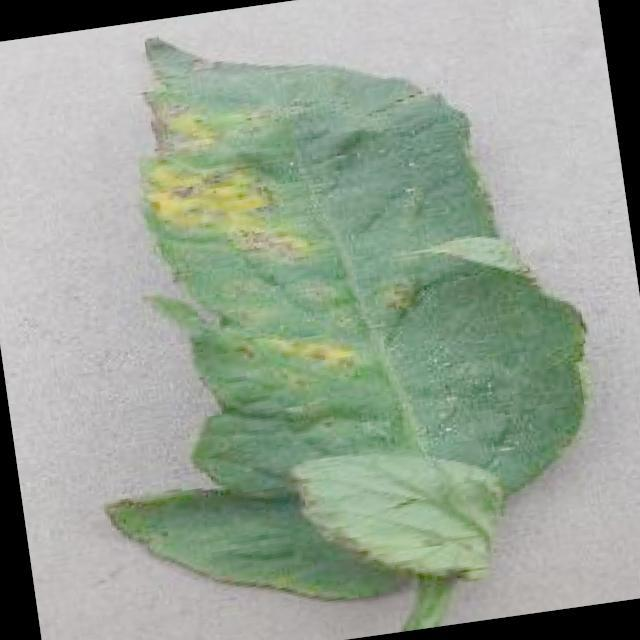Tomato bacterial spot leaf: (34, 0, 624, 638)
